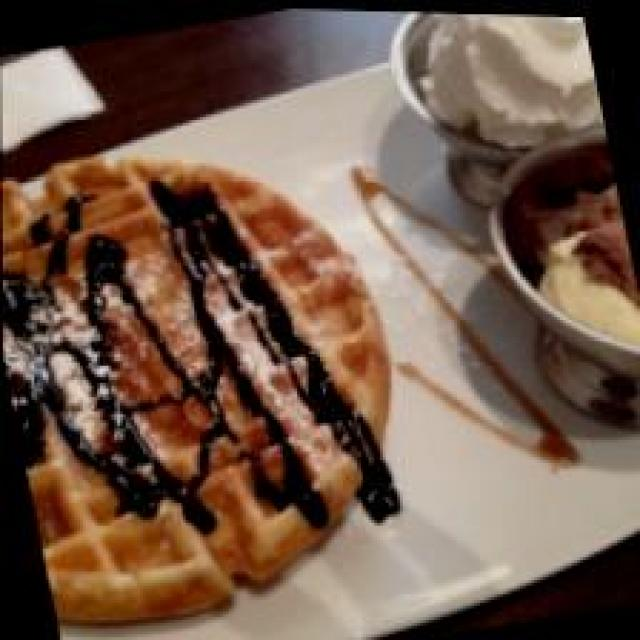Waffles: (0, 77, 443, 640)
